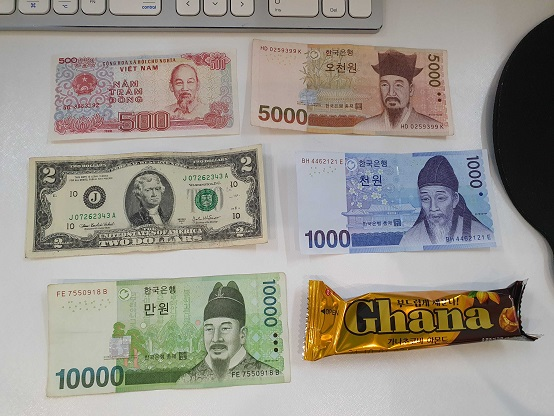10000won: (46, 272, 291, 396)
1000won: (295, 150, 500, 254)
5000won: (250, 38, 455, 136)
500vnd: (24, 143, 268, 256), (50, 49, 238, 138)
